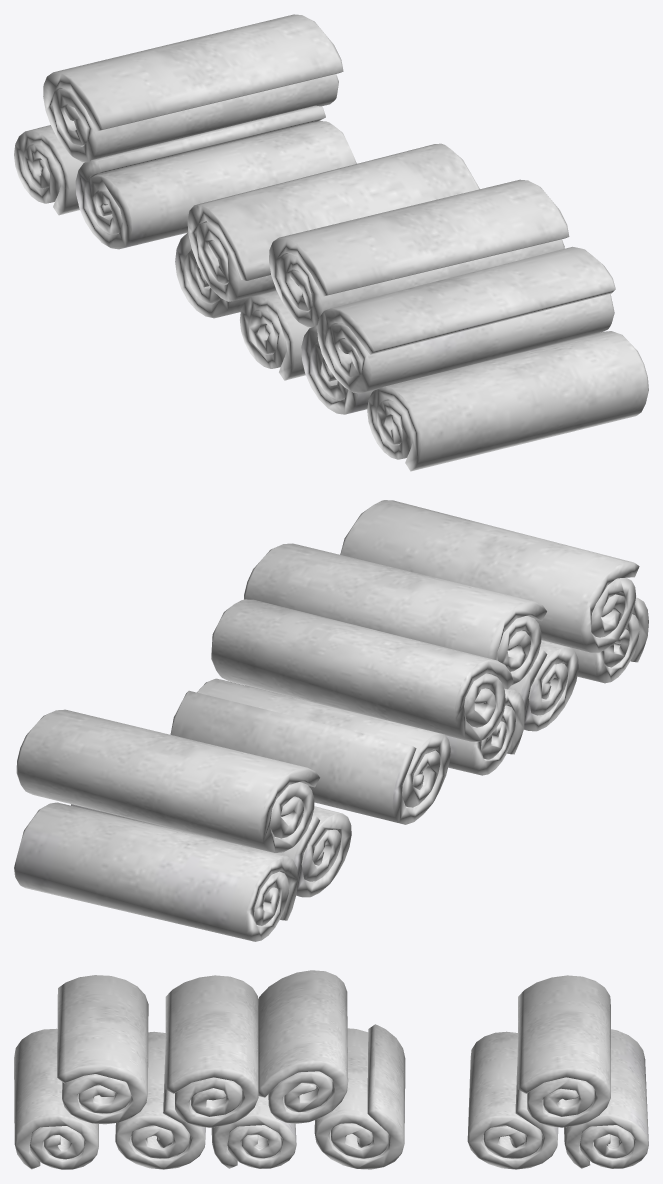
The model's file is sport_serviettes.glb.
3 renders of one model, top to bottom at view 1: azimuth 30°, elevation 25°; view 2: azimuth 150°, elevation 25°; view 3: azimuth 270°, elevation 25°, orthographic. The views are drawn at different scales.
Visible parts, largest first — view 1: Object_9; view 2: Object_9; view 3: Object_9.
Part boxes in pixels (x1,y1,x2,y2): Object_9: (14,14,648,471); Object_9: (14,500,648,941); Object_9: (14,970,648,1169).
Bounding box in the file's own units: 64.85 × 32.6 × 169.
1 material, 1 textured.
